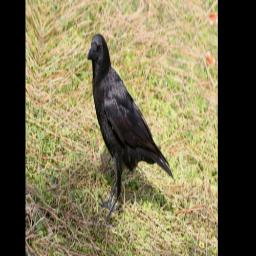Crow: (76, 28, 184, 256)
